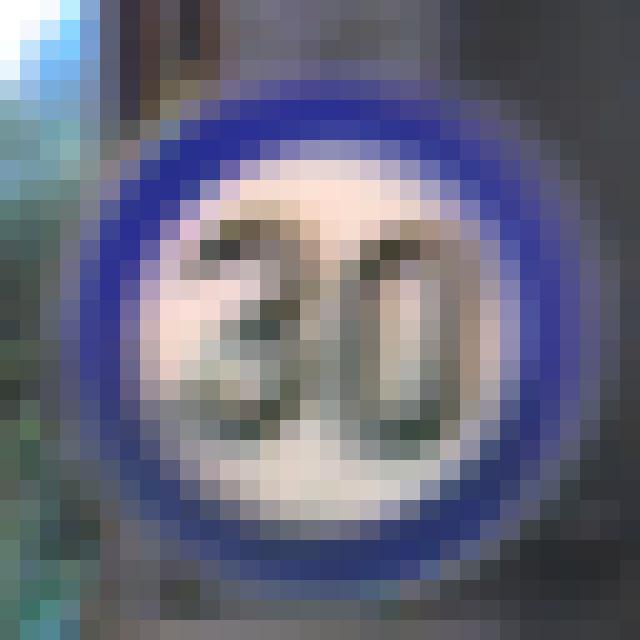SPEED LIMIT 30: (104, 104, 564, 550)
